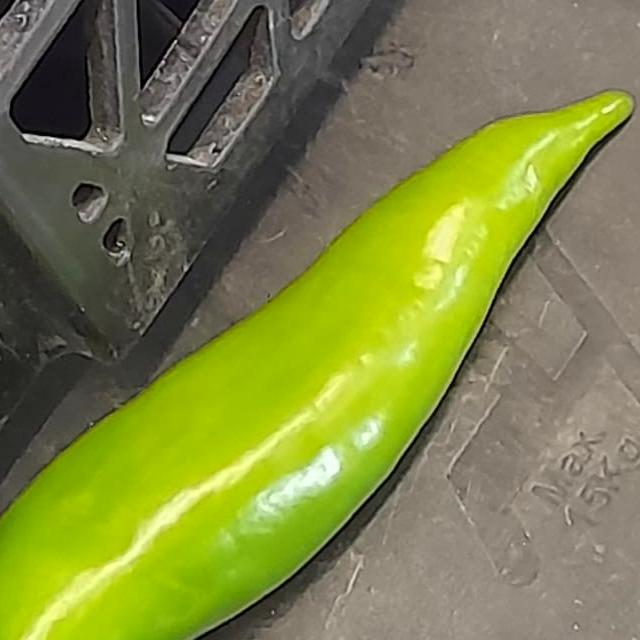chili_pepper: (0, 53, 640, 640), (110, 0, 640, 640)
